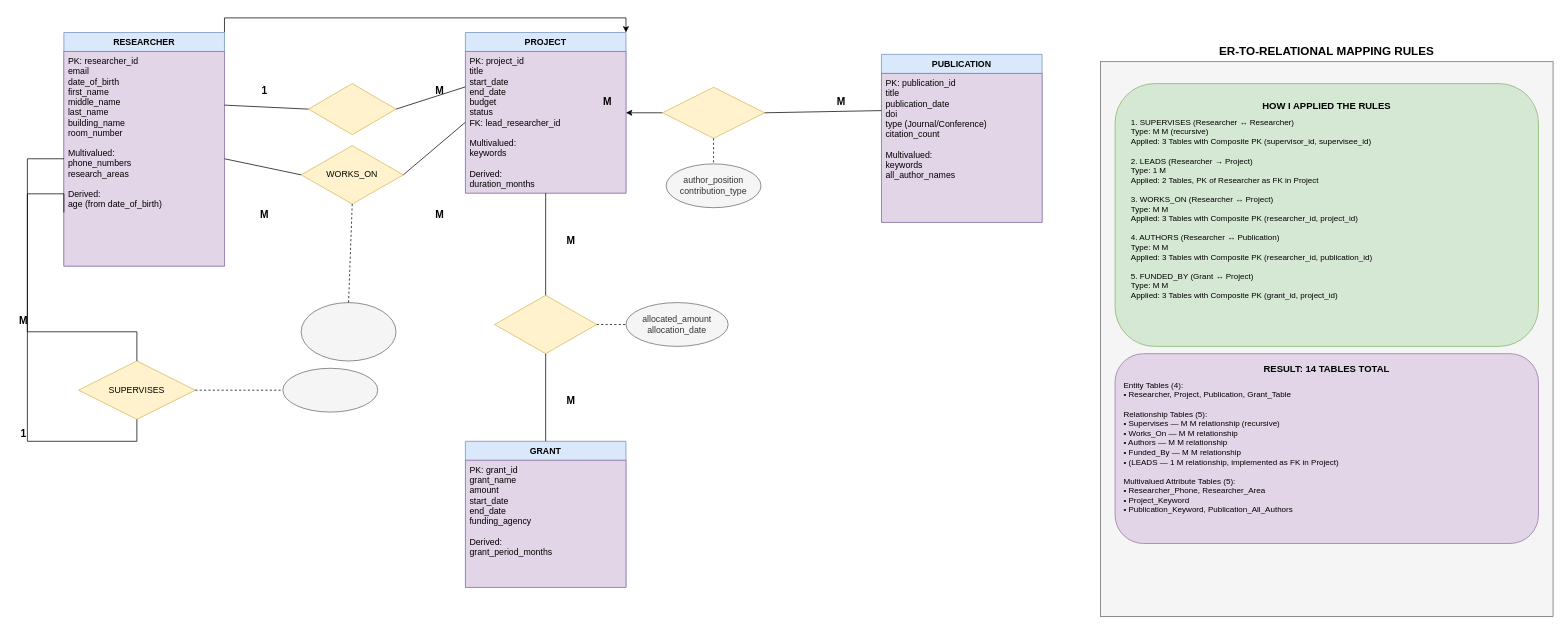
Image size: 1566x629. Some labels were removed from this diagram. Each missing label, with the centre of its shape:
AUTHORS: [713,112]
FUNDED_BY: [545,324]
join_date role hours_per_week credit_percentage: [348,331]
LEADS: [352,109]
start_date supervision_type: [330,390]
